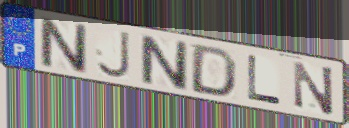D: (187, 42, 239, 99)
J: (95, 29, 133, 81)
L: (246, 53, 283, 107)
N: (36, 15, 90, 76), (137, 32, 190, 93), (291, 59, 336, 118)
